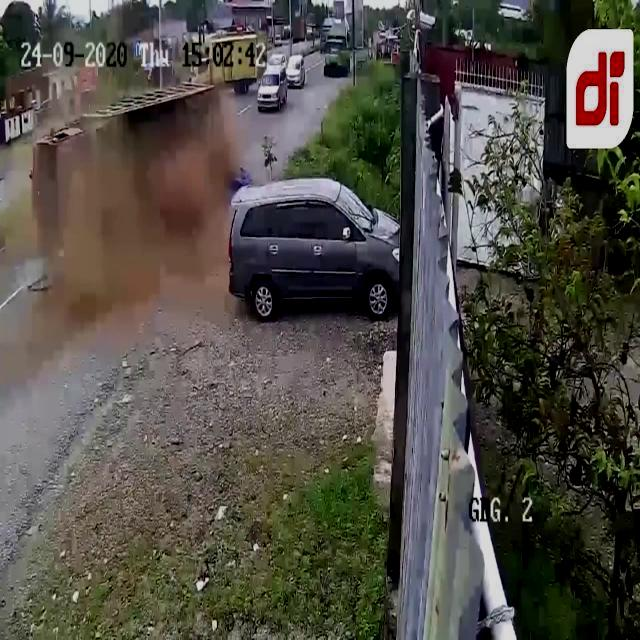accident: (30, 77, 232, 273)
non-accident: (256, 54, 306, 110)
